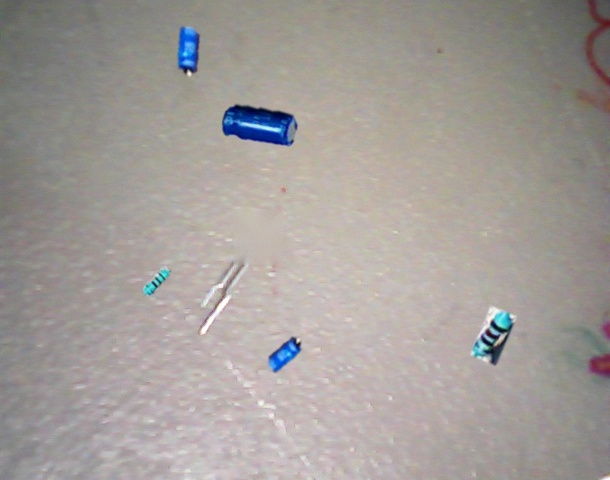capacitor: (222, 105, 298, 147), (268, 337, 301, 373), (177, 26, 200, 77)
resistor: (470, 306, 516, 365), (141, 265, 172, 297)
